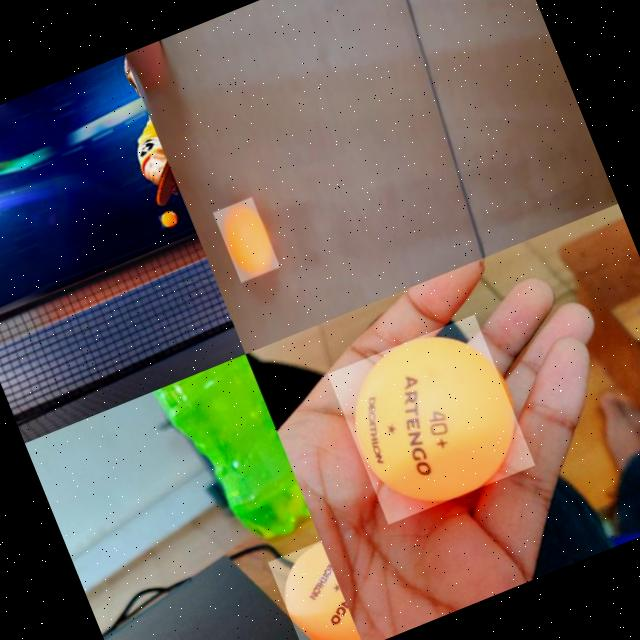ping-pong-ball: (327, 314, 537, 526), (267, 540, 361, 640), (212, 196, 280, 283), (158, 210, 178, 228)
